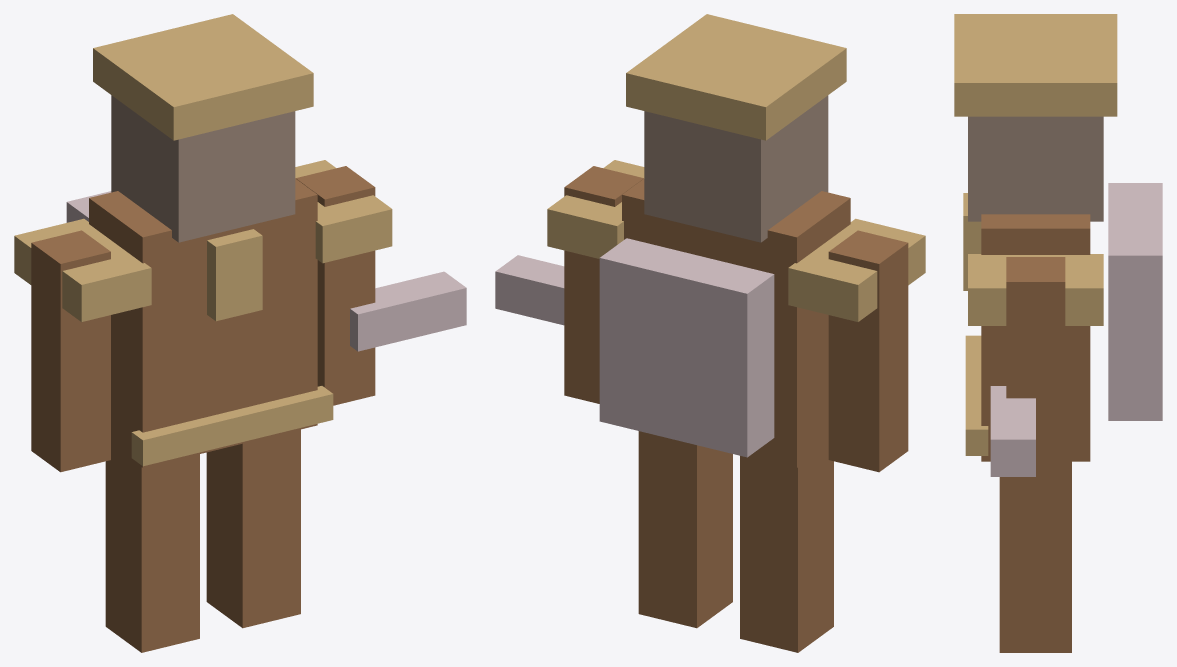
Rendered from 11_asha_chromabell_mechanist_at_tactical.glb.
The picture shows the model from 3 angles, left to right: view 1: azimuth 30°, elevation 25°; view 2: azimuth 150°, elevation 25°; view 3: azimuth 270°, elevation 25°; orthographic projection.
Parts seen in each view (by area): view 1: Asha Chromabell, Mechanist at Tactical; view 2: Asha Chromabell, Mechanist at Tactical; view 3: Asha Chromabell, Mechanist at Tactical.
Part boxes in pixels (x1,y1,x2,y2): Asha Chromabell, Mechanist at Tactical: [14, 14, 466, 652]; Asha Chromabell, Mechanist at Tactical: [495, 14, 925, 652]; Asha Chromabell, Mechanist at Tactical: [954, 14, 1162, 652].
Bounding box in the file's own units: 1.1 × 1.48 × 0.4944.
